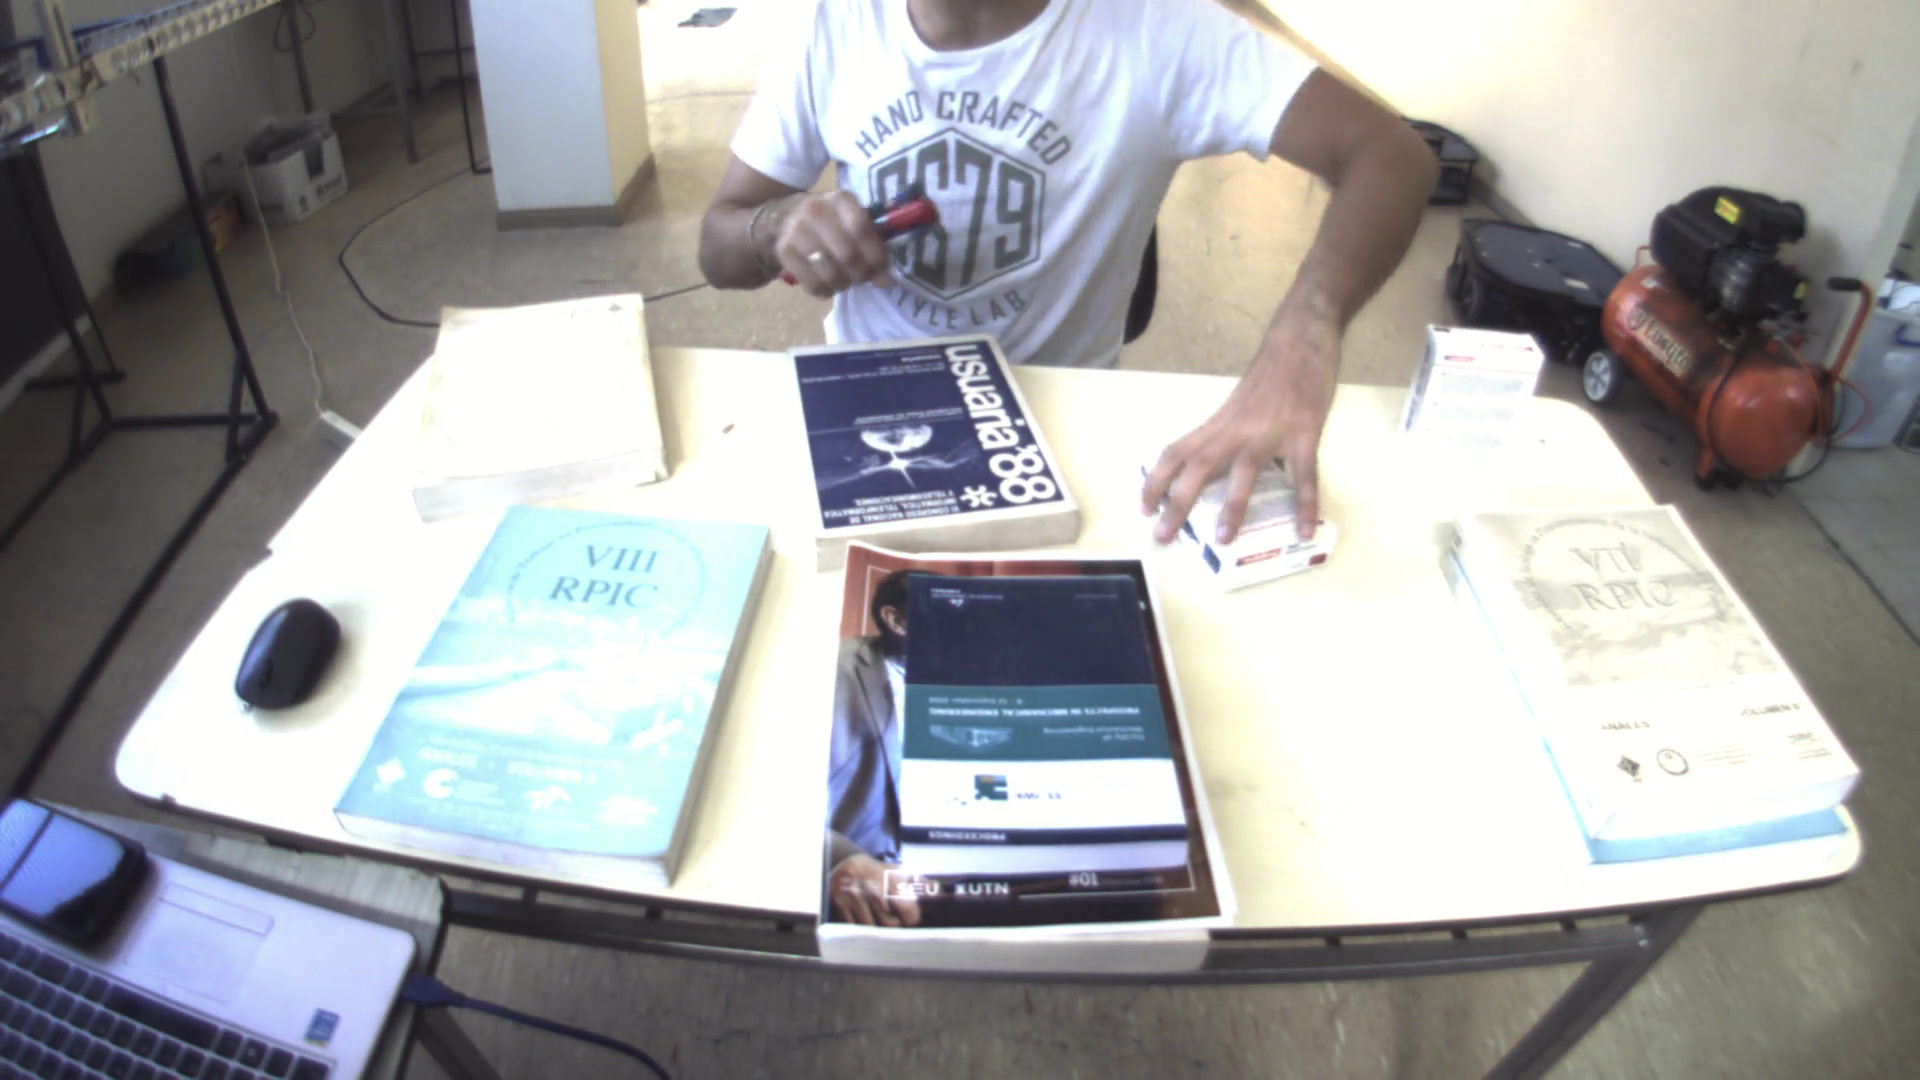hand: (1139, 327, 1354, 562), (760, 174, 895, 302)
